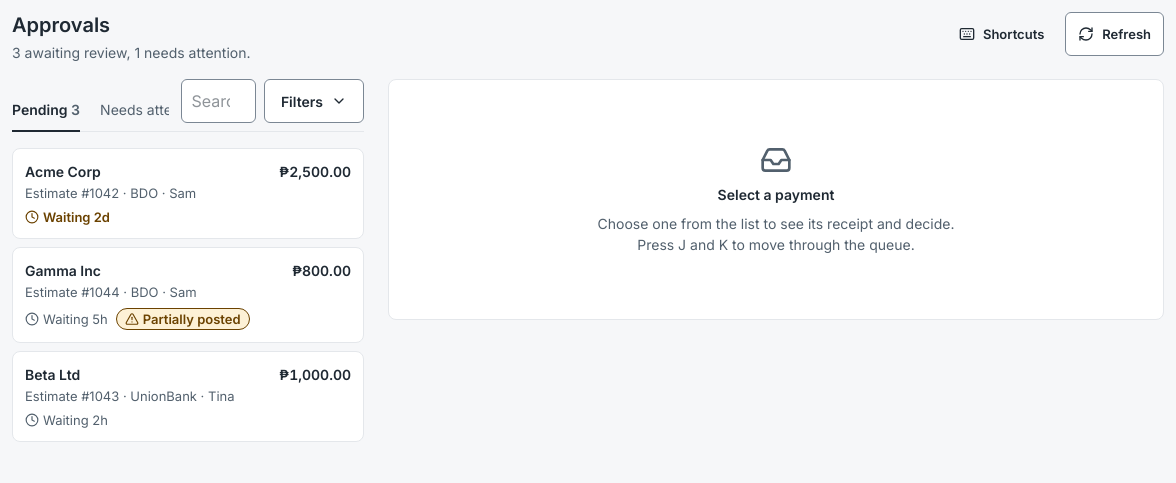
AdminPendingPage review › ignores shortcuts while typing in a field
expect the text "Acme Corp" is shown: met, box [25,161,101,182]
In the search field named "Search by customer or estimate number": (218, 101) [181,79,256,123], type "jar"
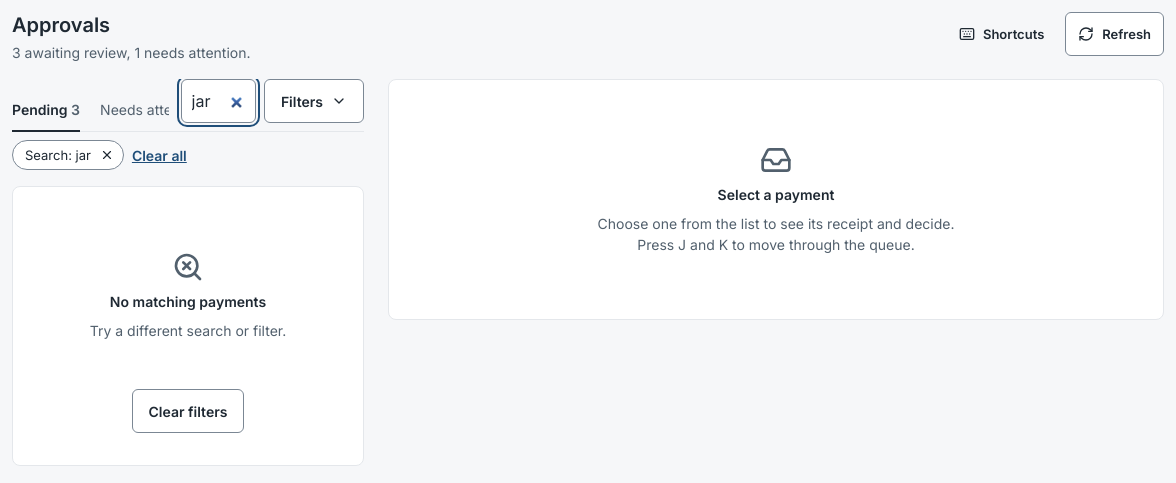
expect the link "Acme Corp" is gone: met
